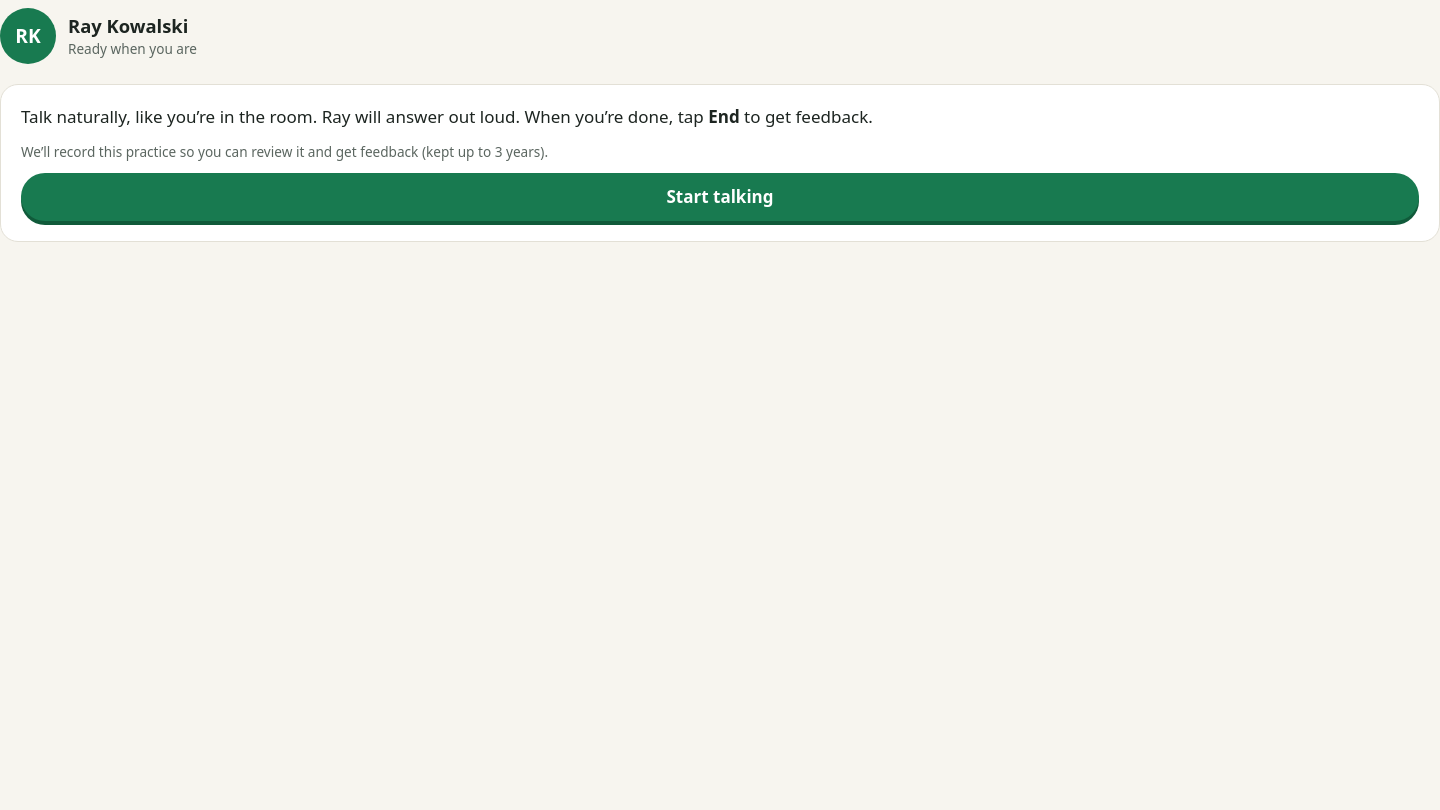
Test: two-way voice › treats talking again right as the patient starts as finishing a thought, not interrupting
Later steps or results of the test are not shown.
Click the button "Start talking" at (720, 197), box [21,173,1419,221]
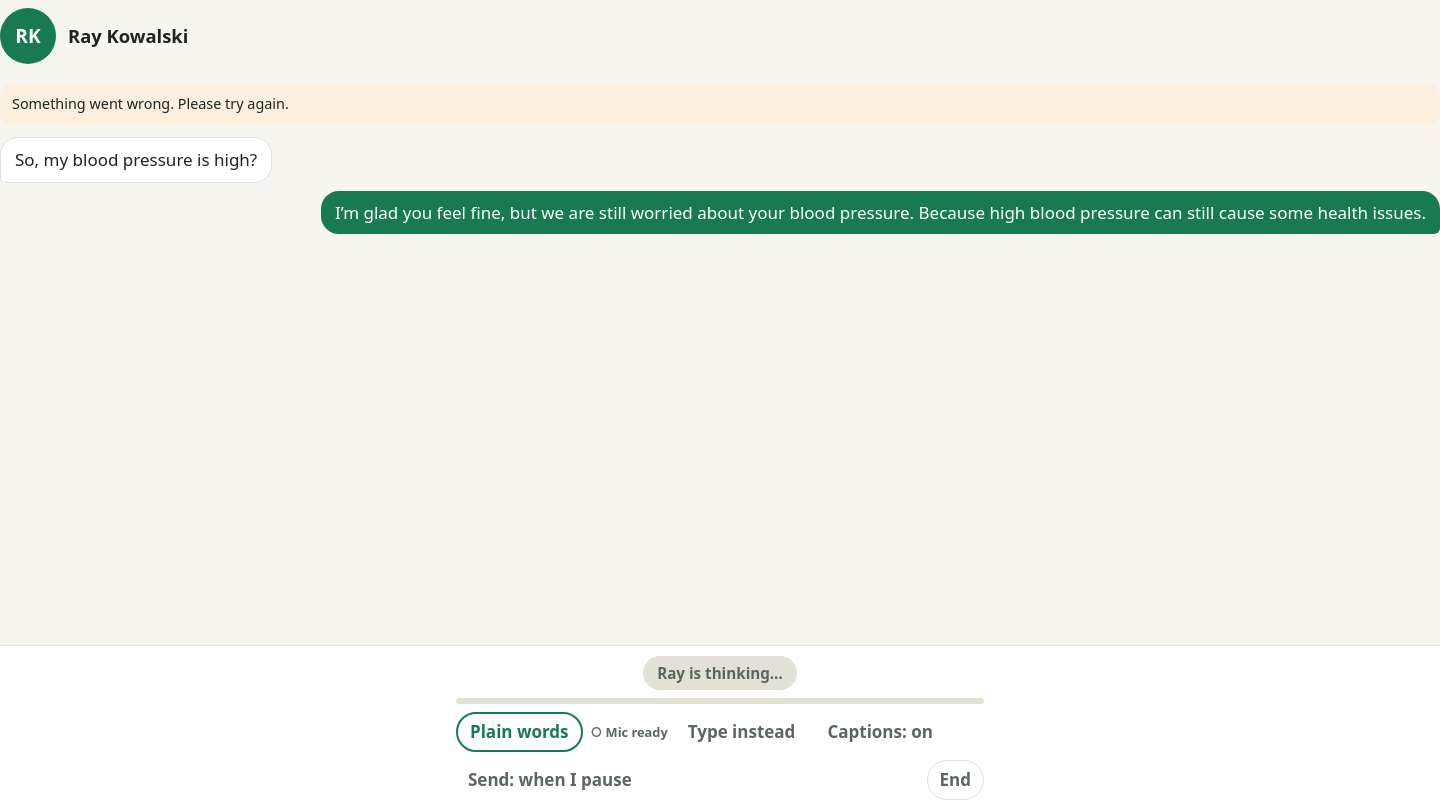
Check: the text "So, my blood pressure is high?" is shown, box [0,137,272,183]
